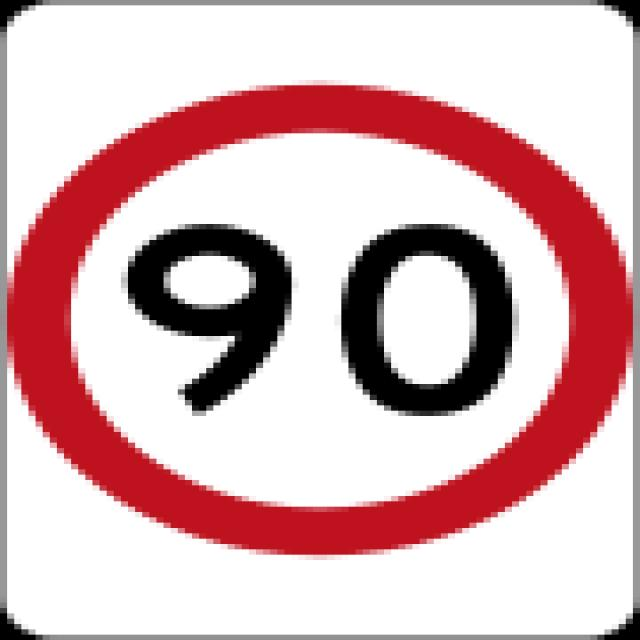Speed Limit -90-: (119, 214, 521, 427)
